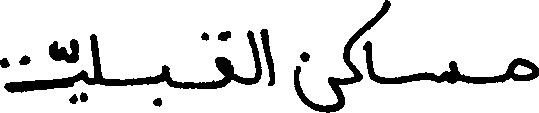X: (0, 36, 67, 97), (293, 47, 343, 112), (215, 26, 233, 93), (345, 23, 361, 89), (430, 56, 458, 88), (510, 53, 538, 85), (262, 24, 275, 90), (247, 25, 260, 89), (91, 29, 102, 89), (366, 12, 374, 85), (161, 60, 170, 109), (79, 65, 87, 106)
